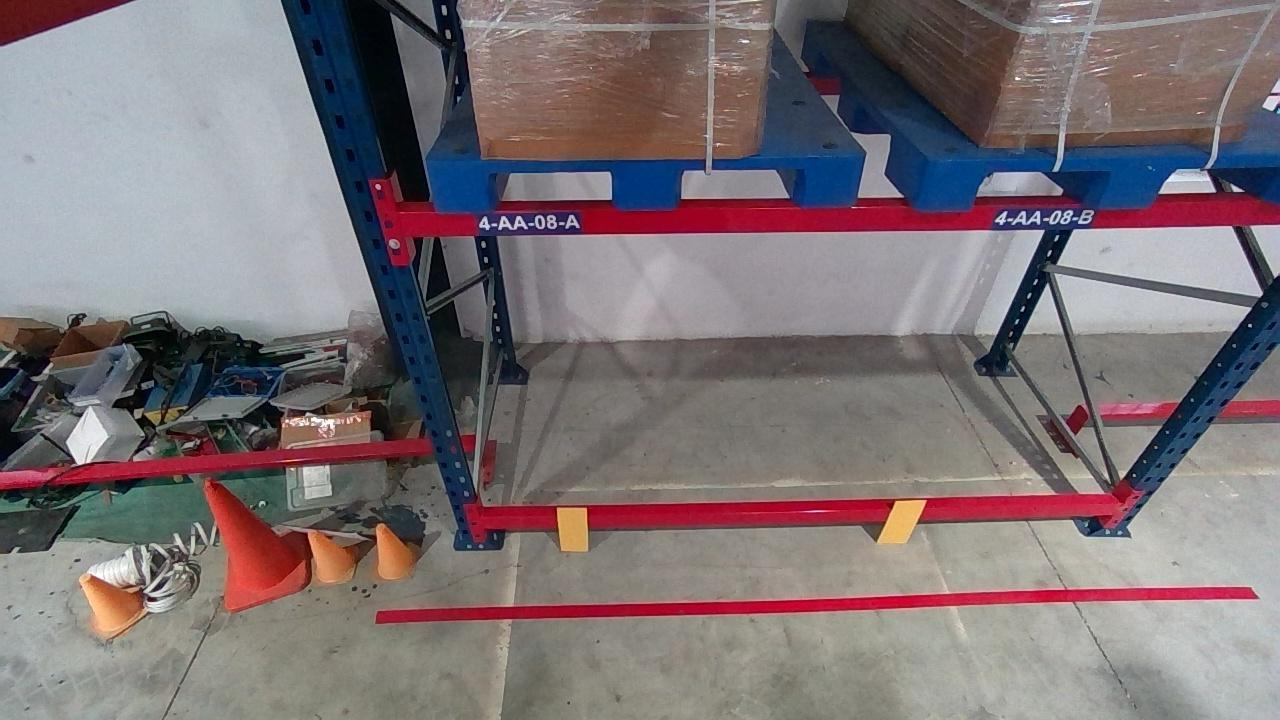h_rack: (404, 200, 1278, 233), (481, 500, 1123, 529)
orange_strip: (877, 500, 928, 543), (557, 507, 588, 551)
red_line: (374, 585, 1253, 623)
small_pallet: (427, 156, 863, 208), (915, 153, 1278, 206)
